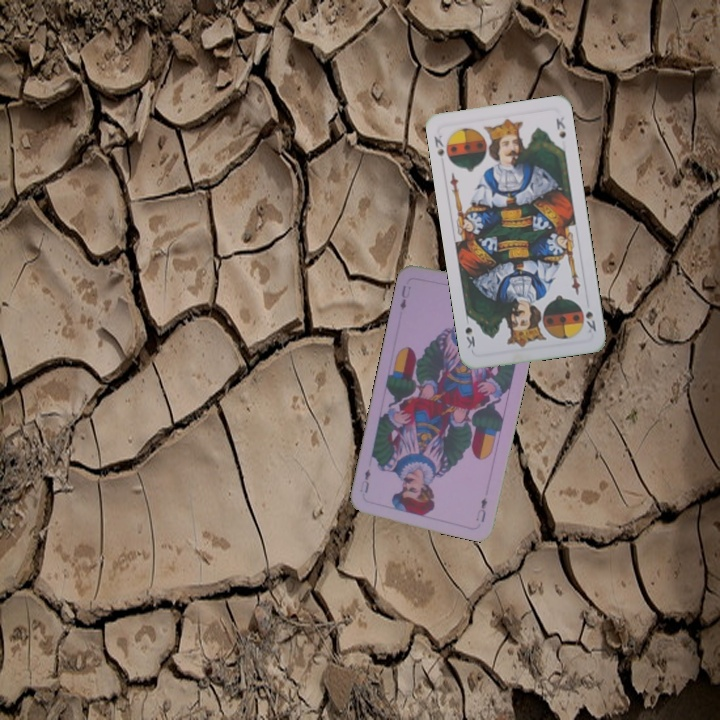EU: (472, 493, 490, 525), (396, 281, 413, 313)
SK: (582, 307, 599, 335), (430, 131, 447, 159)
